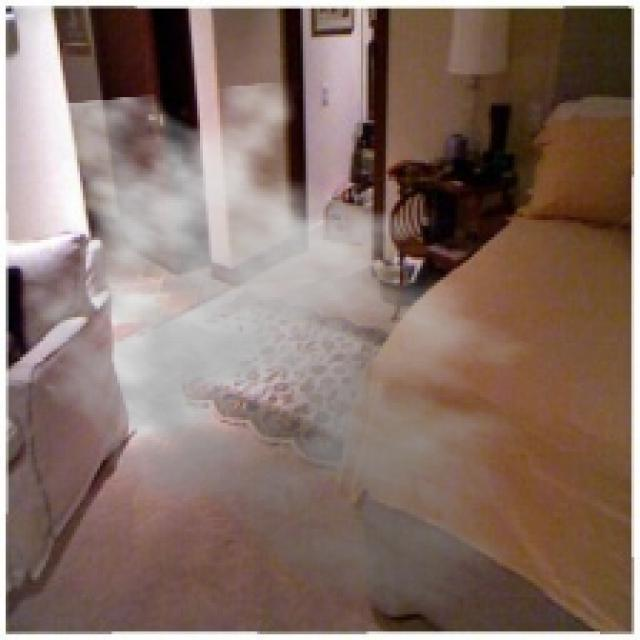Smoke: (9, 80, 572, 617)
